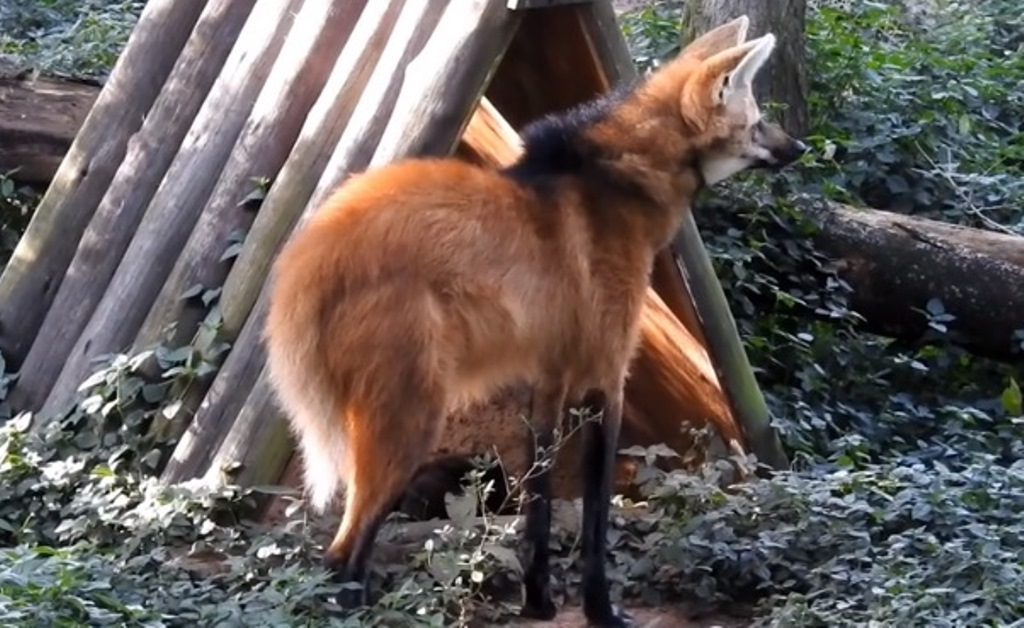LoboGuara: (264, 7, 809, 604)
